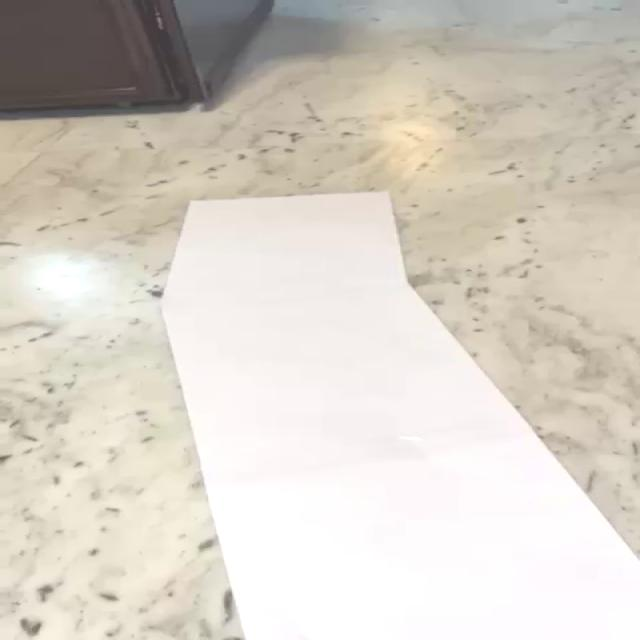road: (161, 192, 637, 640)
